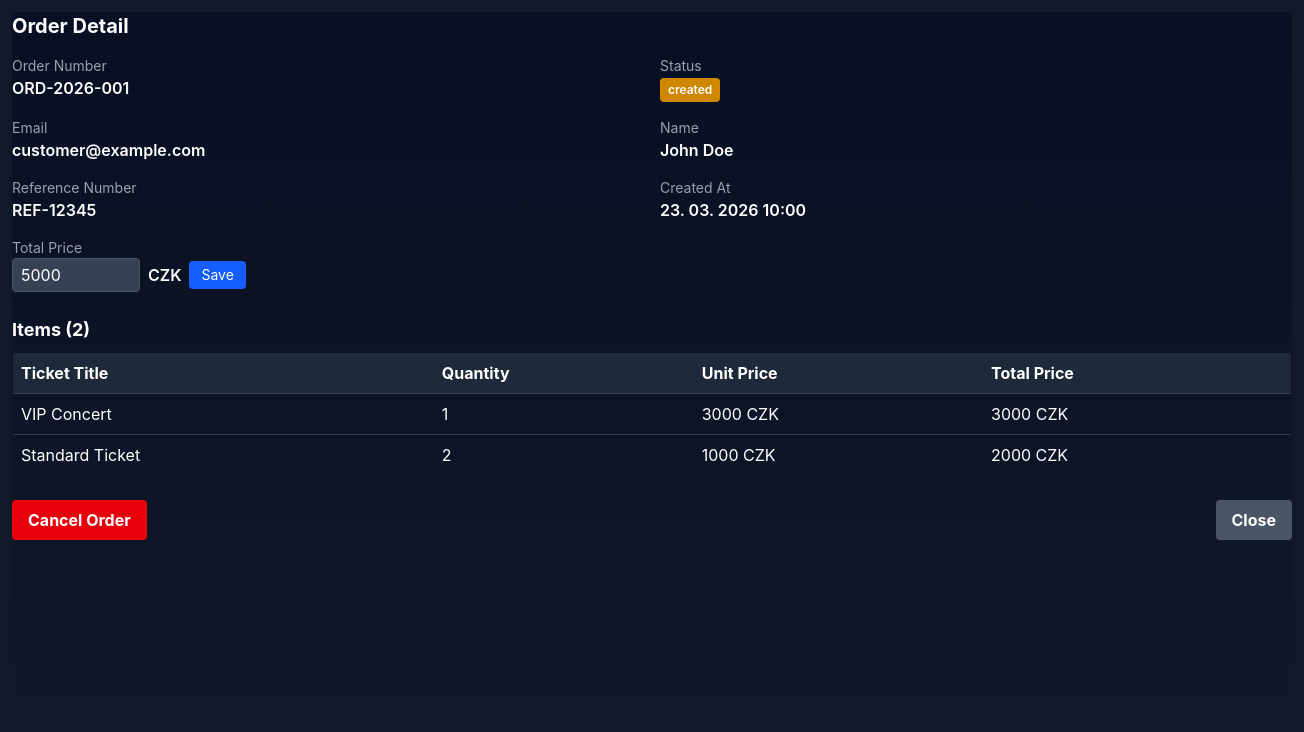
Test case: OrderDetail › hides confirmation dialog when No button clicked
This screenshot has width=1304, height=732.
Click the button "Cancel Order": {"x": 79, "y": 520} [12,500,147,540]
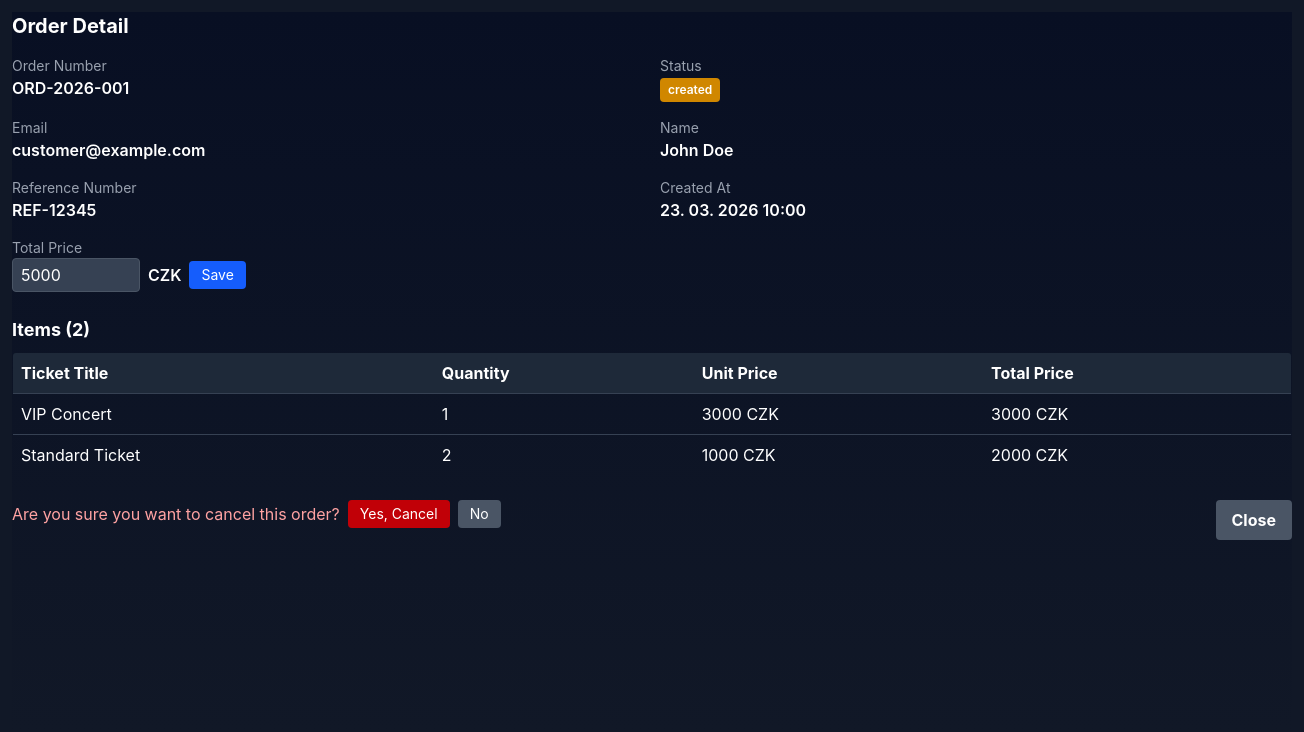
Expected: the text "Are you sure you want to cancel this order?" is shown, [12,502,340,526]
Click the button "No": {"x": 479, "y": 514} [458,500,501,528]
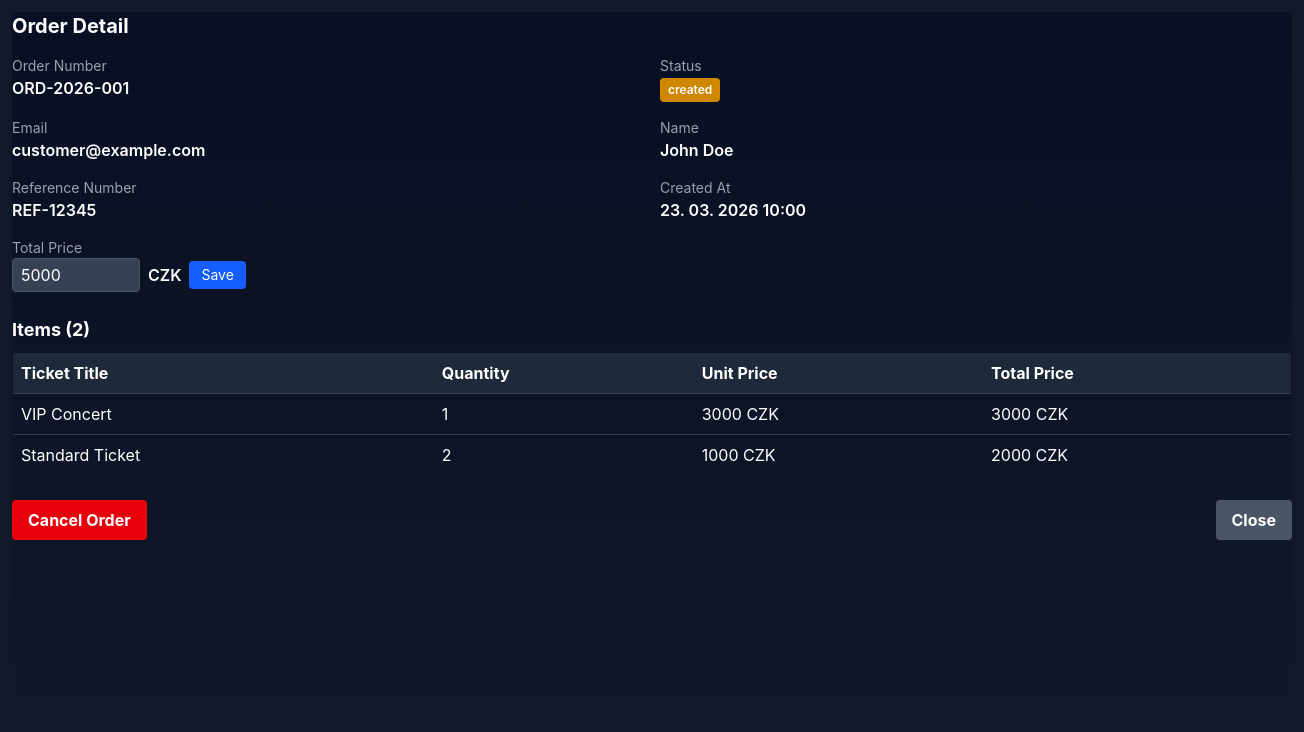
Expected: the text "Are you sure you want to cancel this order" is gone
